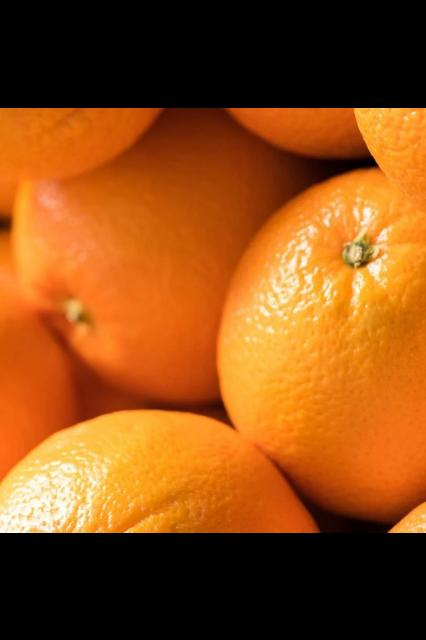Oranges: (14, 113, 278, 397), (217, 170, 426, 517)
